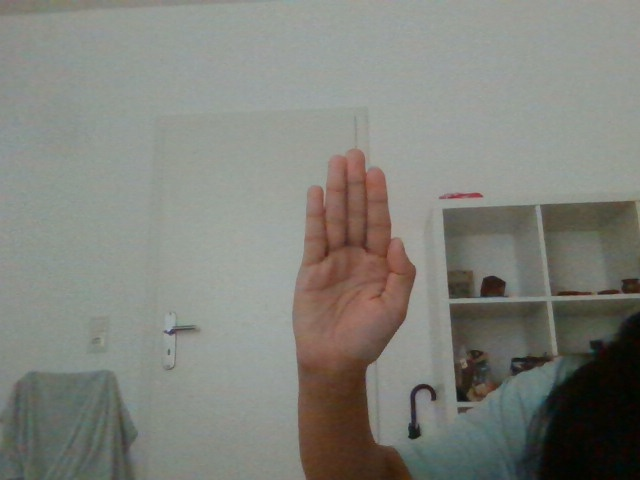Palm: (279, 141, 429, 382)
